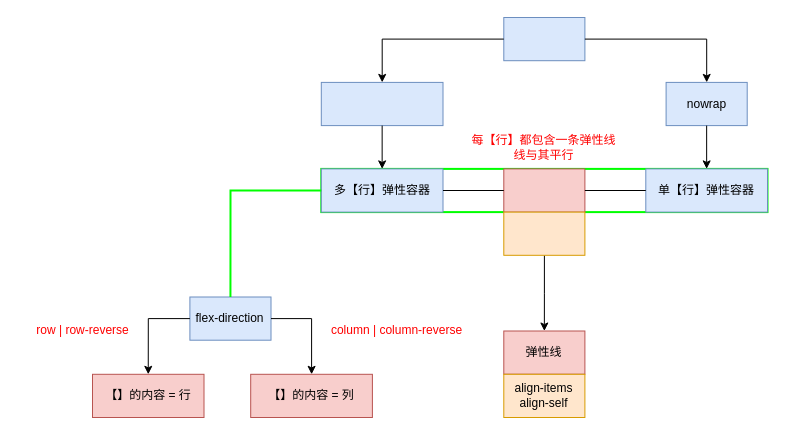
The diagram is 785 pixels wide and 435 high, and some of its shapes have lost their labels. Here are the shapes that lost their labels. From the top down, the box of each, then its label:
(503, 16, 585, 61): flex-wrap
(320, 81, 443, 126): wrap wrap-reverse
(503, 168, 585, 212): 【行】
(503, 211, 585, 255): align-content
